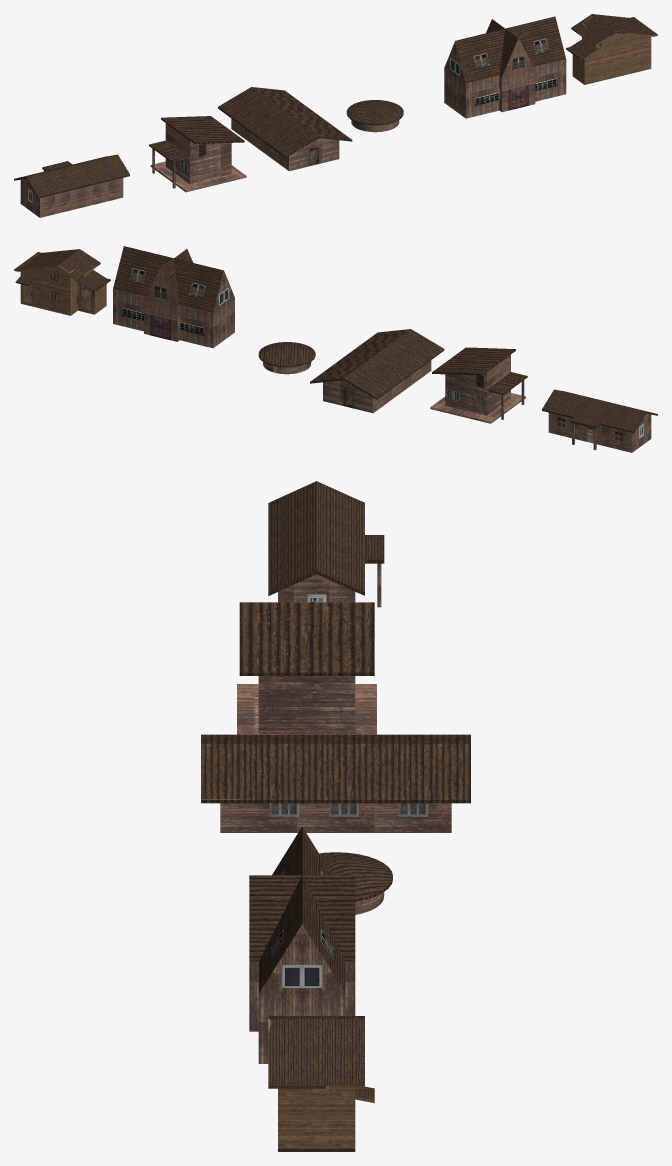
File: huts.fbx
3 renders of one model, top to bottom at view 1: azimuth 30°, elevation 25°; view 2: azimuth 150°, elevation 25°; view 3: azimuth 270°, elevation 25°, orthographic. The views are drawn at different scales.
Visible parts, largest first — view 1: HUT 4, HUT 3, HUT 2, HUT 5, HUT 1, HUT 6; view 2: HUT 4, HUT 3, HUT 2, HUT 1, HUT 5, HUT 6; view 3: HUT 3, HUT 2, HUT 4, HUT 1, HUT 5, HUT 6.
Boxes of the visible parts, box(x1,y1,x2,y2) form: HUT 4: box(444, 16, 566, 118); HUT 3: box(218, 87, 352, 171); HUT 2: box(149, 116, 246, 192); HUT 5: box(14, 154, 129, 217); HUT 1: box(566, 14, 657, 84); HUT 6: box(346, 100, 403, 132); HUT 4: box(113, 246, 234, 348); HUT 3: box(310, 329, 444, 413); HUT 2: box(430, 347, 527, 423); HUT 1: box(14, 249, 110, 315); HUT 5: box(542, 389, 657, 452); HUT 6: box(258, 342, 315, 374); HUT 3: box(201, 734, 470, 832); HUT 2: box(237, 602, 376, 734); HUT 4: box(249, 826, 355, 1063); HUT 1: box(268, 1016, 374, 1151); HUT 5: box(268, 481, 384, 607); HUT 6: box(319, 852, 392, 914).
Size of the model in its own units: 7419 by 800 by 1400.
6 materials, 6 textured.
